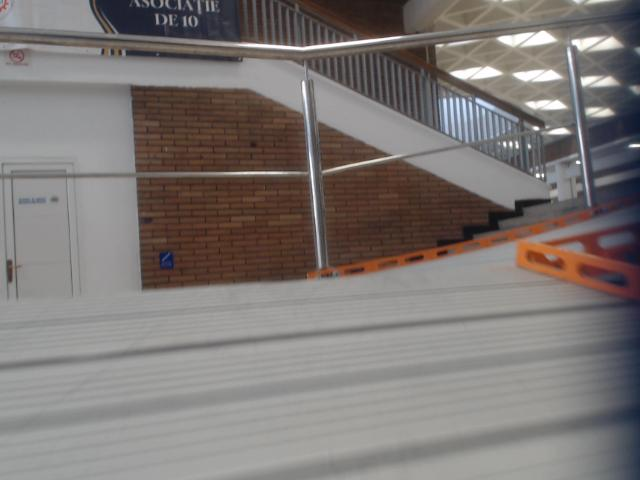rampUp: (0, 242, 639, 479), (533, 207, 639, 240)
ramps-railing: (0, 10, 639, 268), (322, 140, 491, 174), (0, 171, 307, 178), (497, 133, 523, 142)
